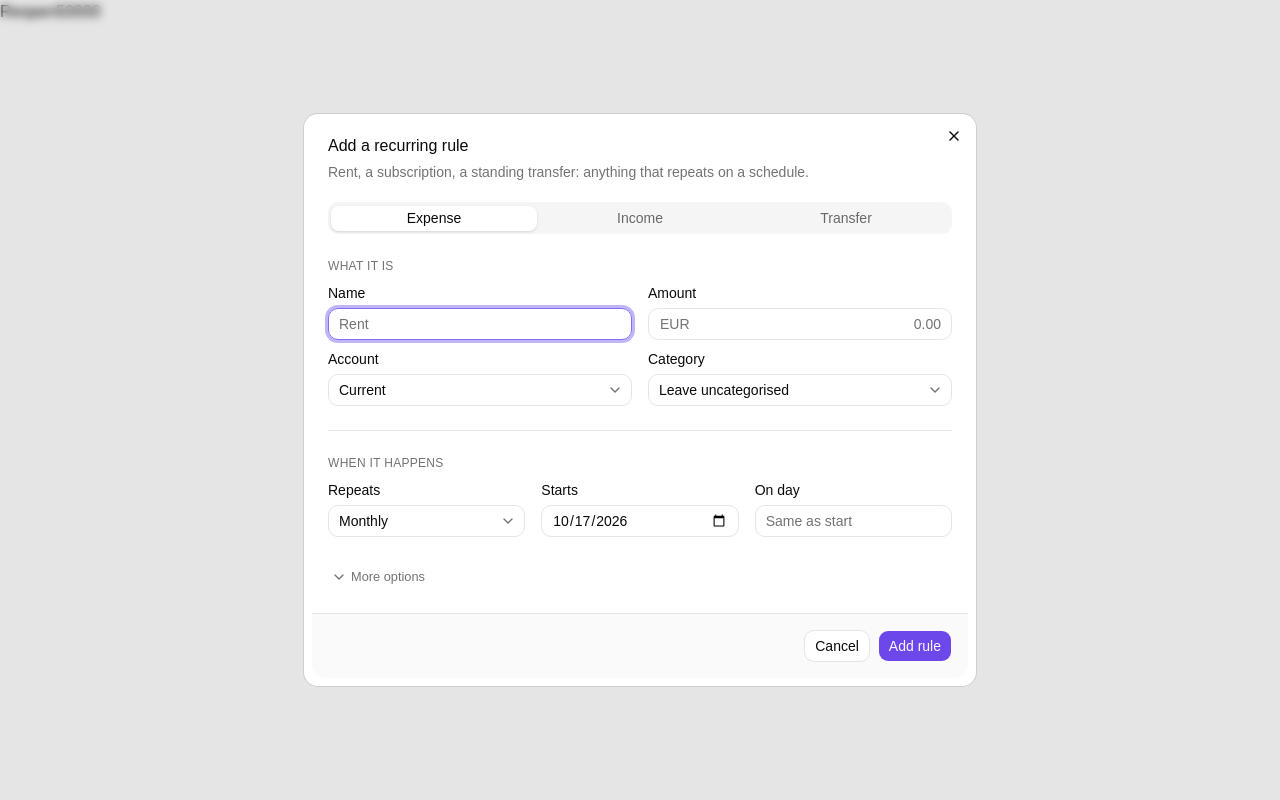
Test: the sentence under the fields › names both accounts of a transfer
The image size is (1280, 800).
In the field labelled "Amount": (800, 324) x1=648 y1=308 x2=952 y2=340, type "50"
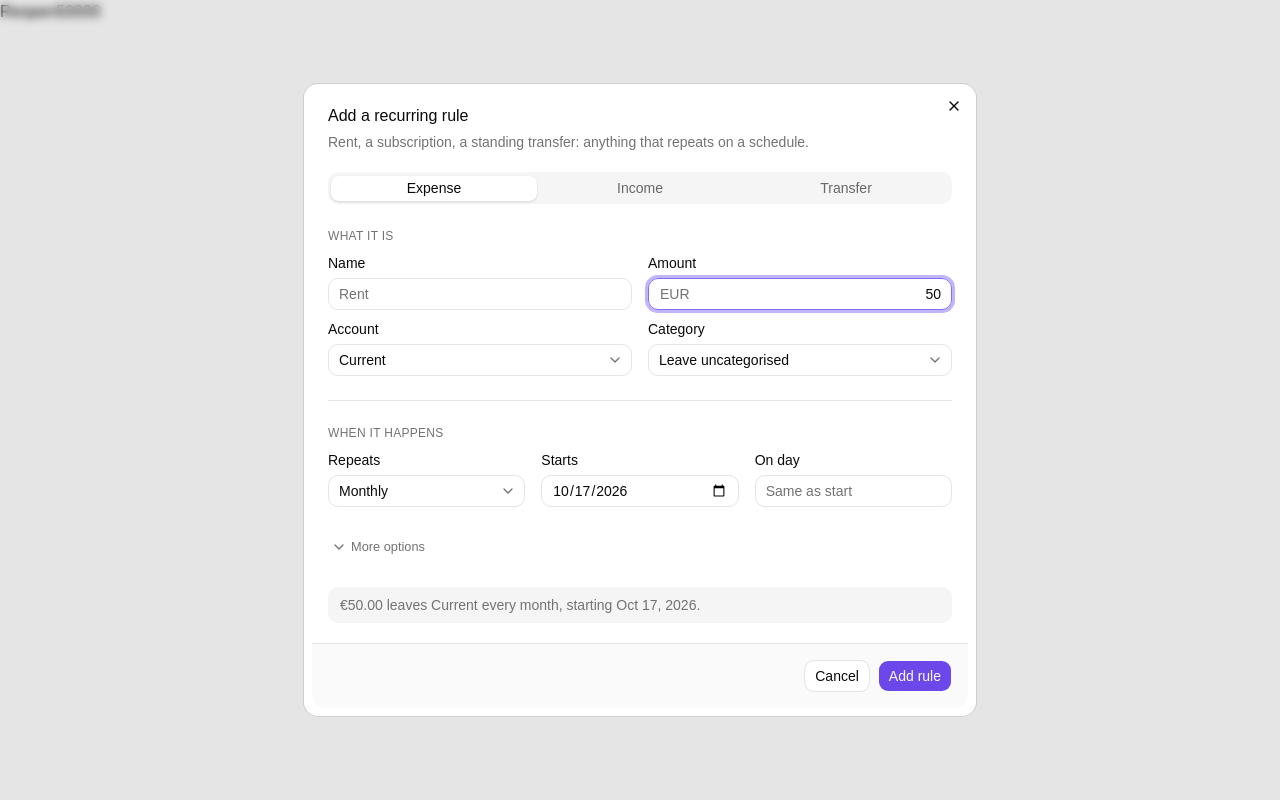
Click the tab "Transfer": (846, 188) x1=743 y1=176 x2=949 y2=200
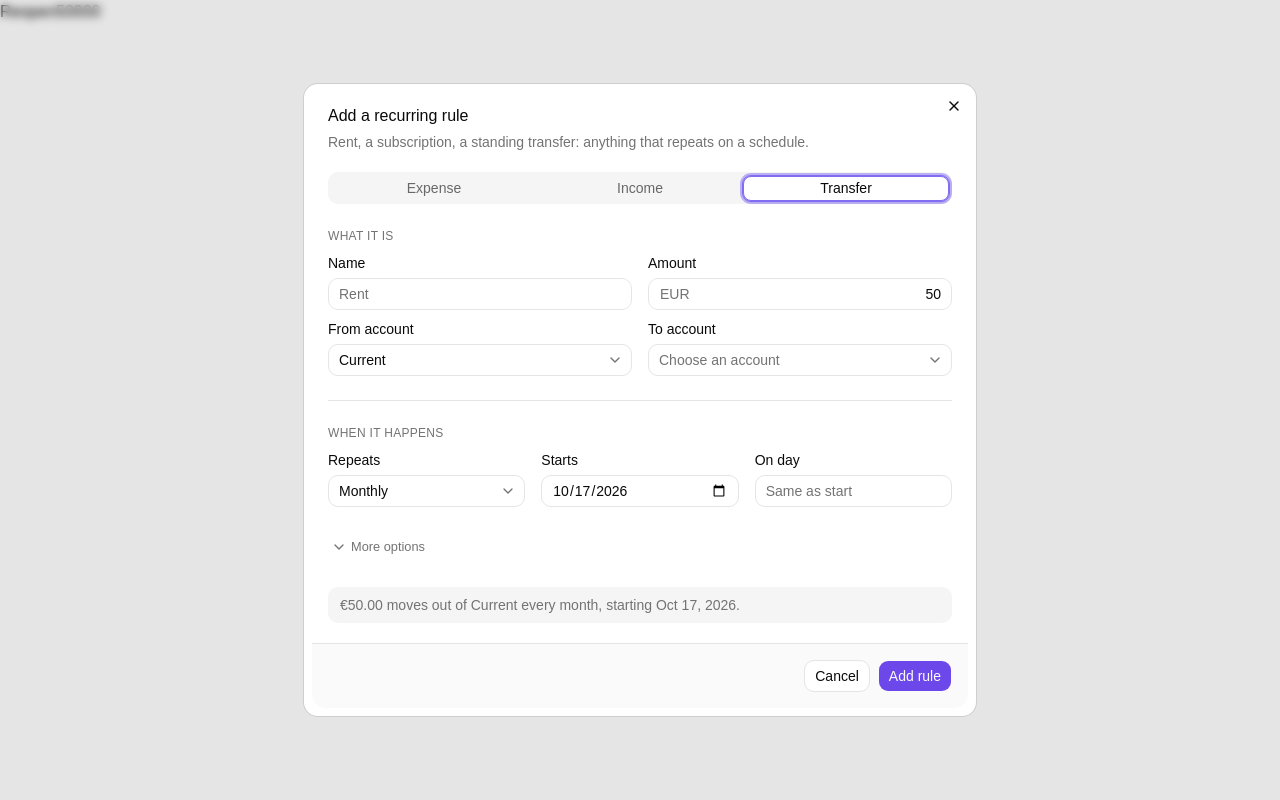
Click the dropdown named "To account": (719, 360) x1=648 y1=344 x2=952 y2=376
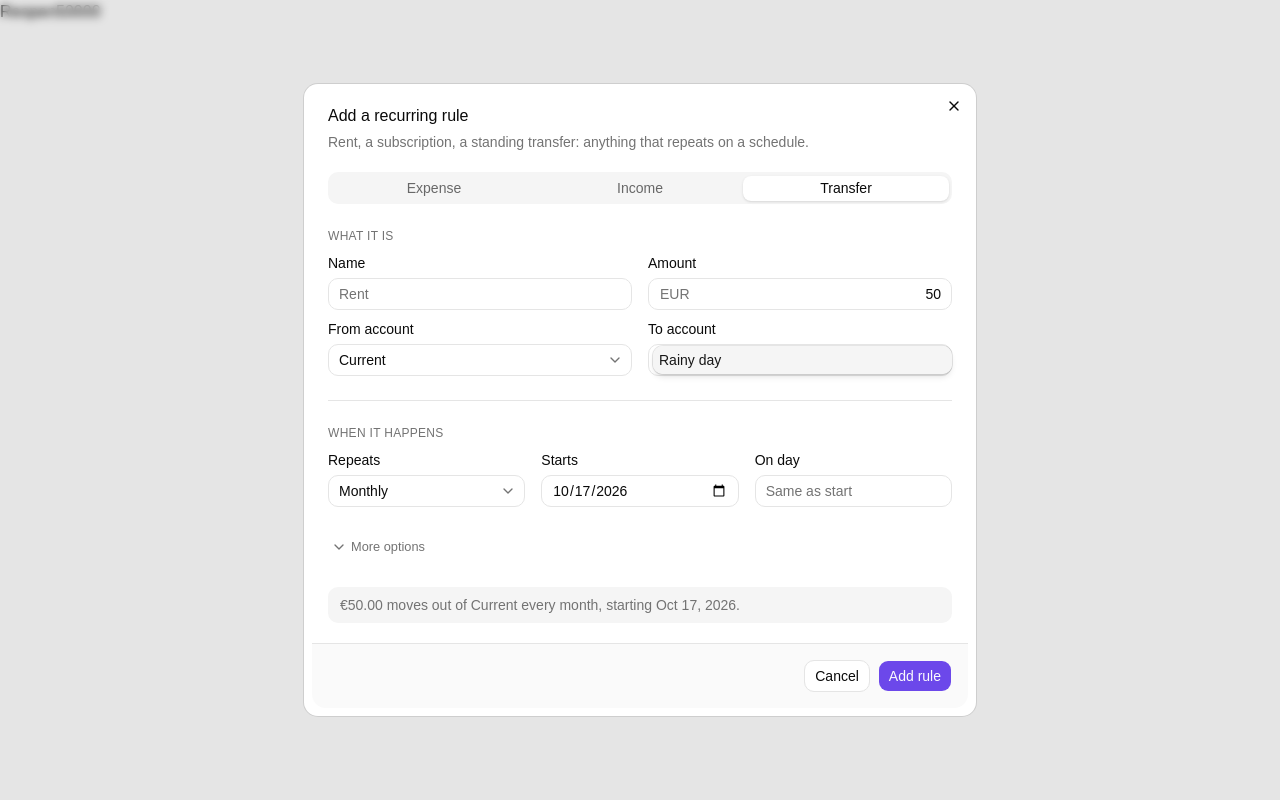
Click the option "Rainy day": (690, 360) x1=653 y1=346 x2=952 y2=374
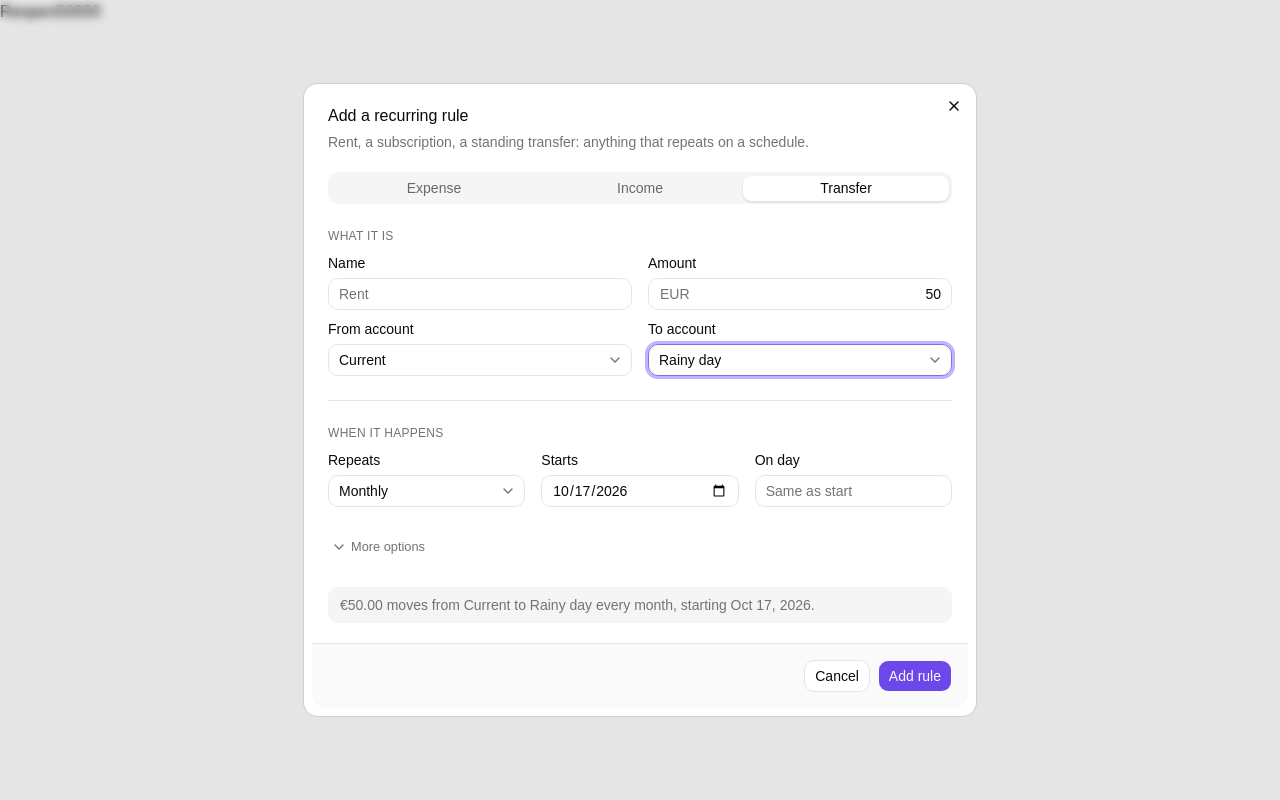
Now the text "€50.00 moves from Current to Rainy day every month" is shown, box x1=340 y1=597 x2=815 y2=613
